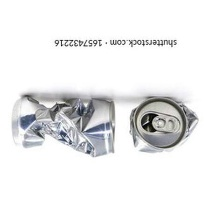can: (8, 92, 121, 159), (127, 90, 200, 157)
